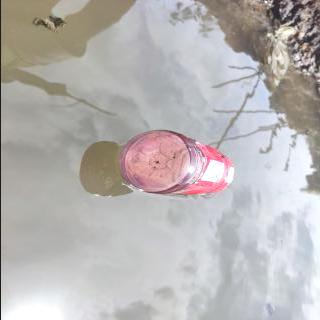bottle: (114, 127, 238, 197)
